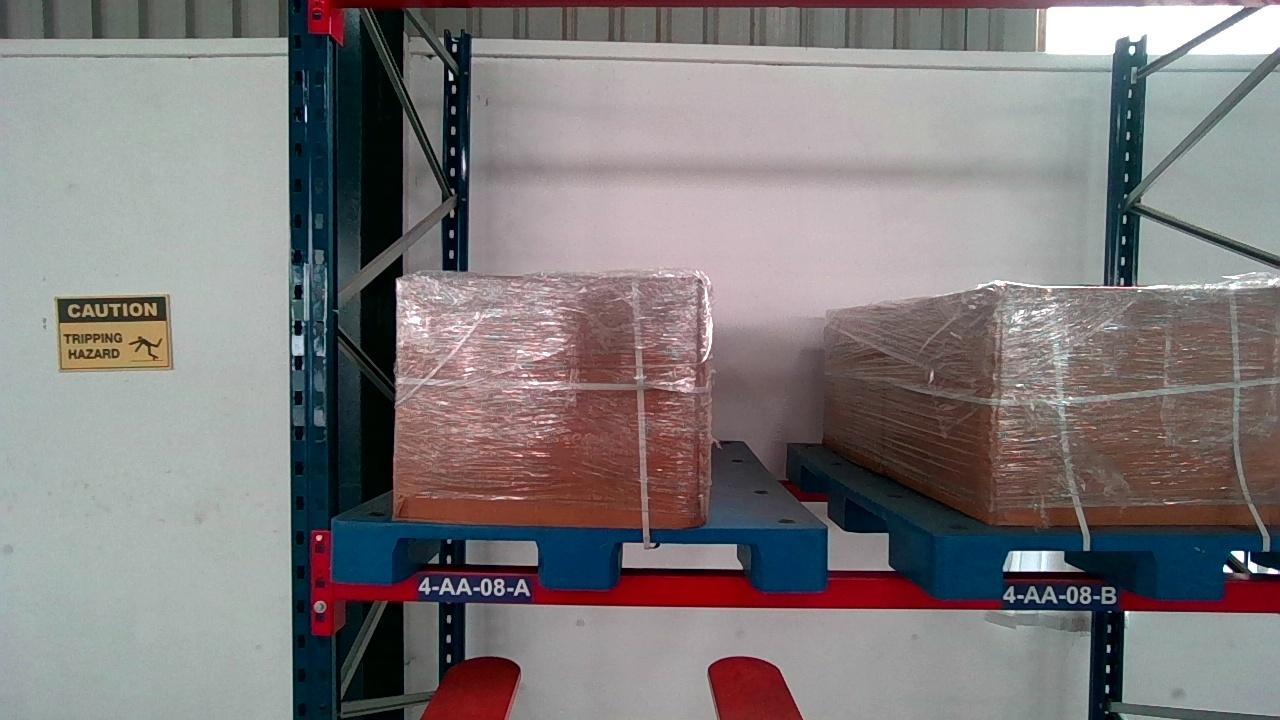h_rack: (332, 569, 1279, 613)
small_pallet: (327, 521, 827, 589), (937, 535, 1280, 598)
